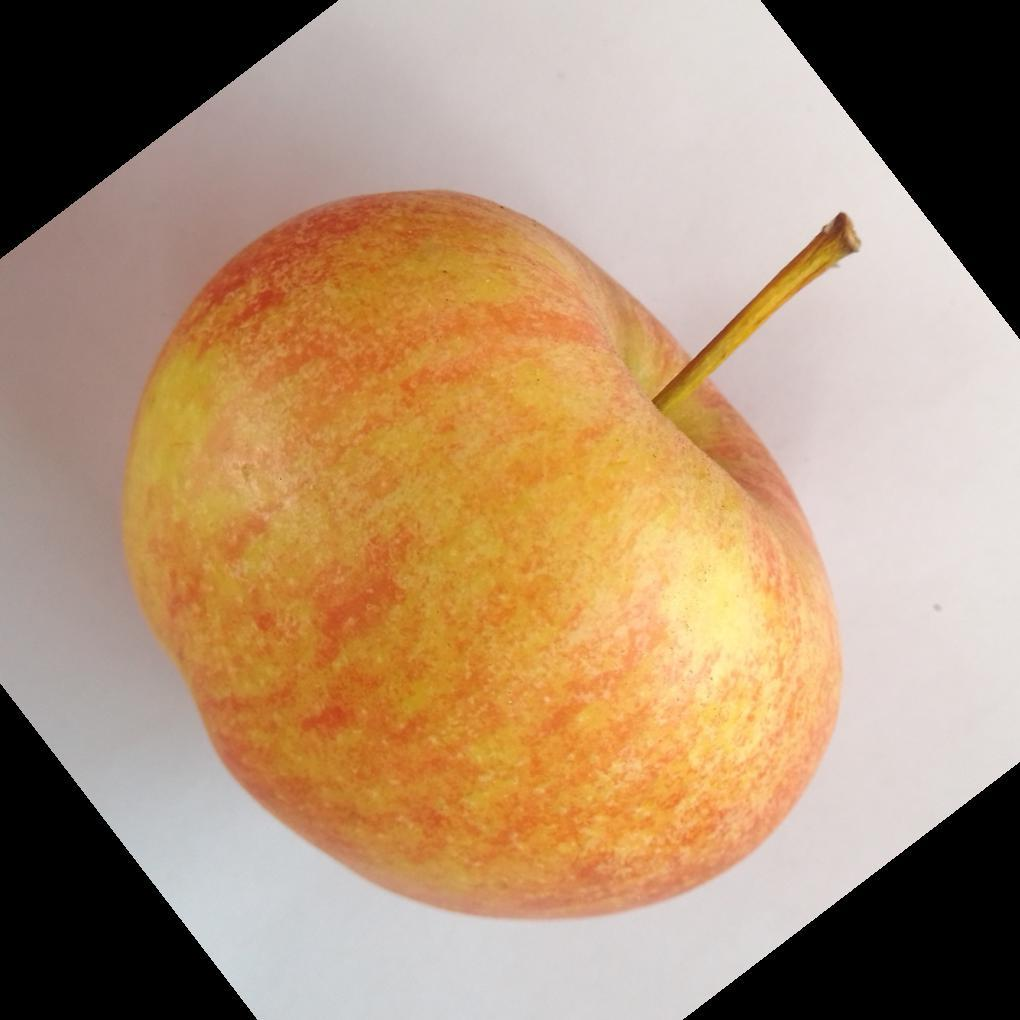FreshGuava: (120, 189, 846, 925)
